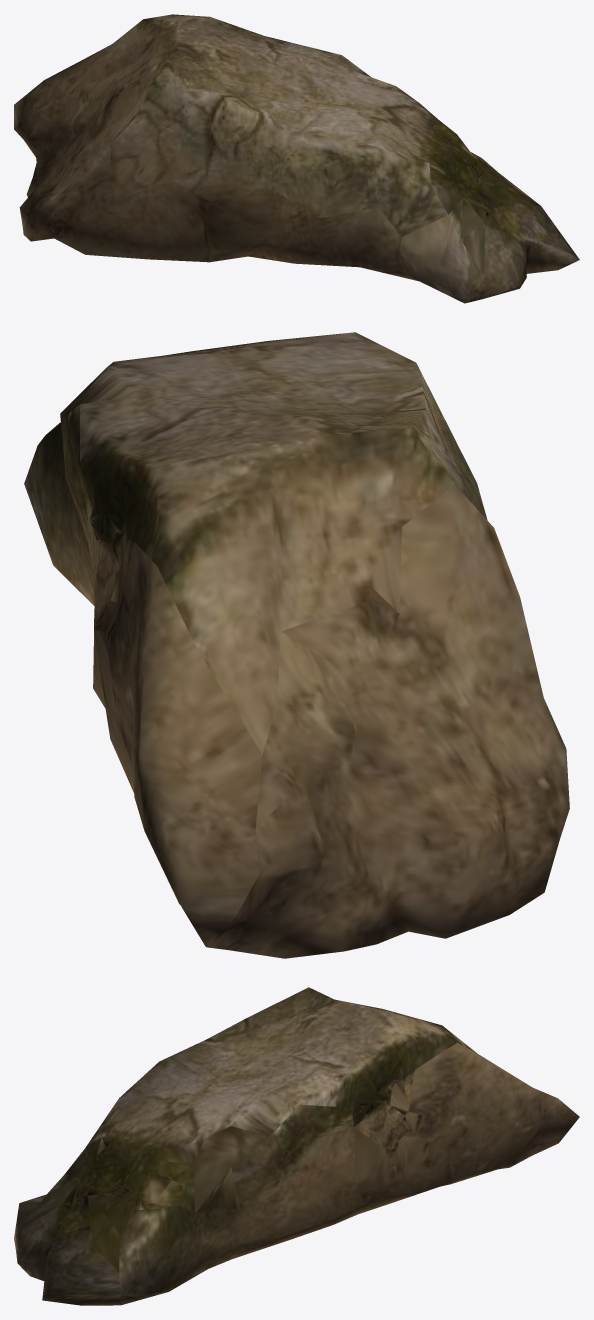
The model's file is mossy_rock_a_2.glb.
3 renders of one model, top to bottom at view 1: azimuth 30°, elevation 25°; view 2: azimuth 150°, elevation 25°; view 3: azimuth 270°, elevation 25°, orthographic. The views are drawn at different scales.
Visible parts, largest first — view 1: rock_moss_set_01_rock02; view 2: rock_moss_set_01_rock02; view 3: rock_moss_set_01_rock02.
Boxes of the visible parts, box(x1,y1,x2,y2) form: rock_moss_set_01_rock02: box(14, 14, 579, 303); rock_moss_set_01_rock02: box(24, 332, 569, 958); rock_moss_set_01_rock02: box(14, 987, 579, 1305).
Bounding box in the file's own units: 2.65 × 1.23 × 3.26.
Materials: 1 (1 with a texture image).
